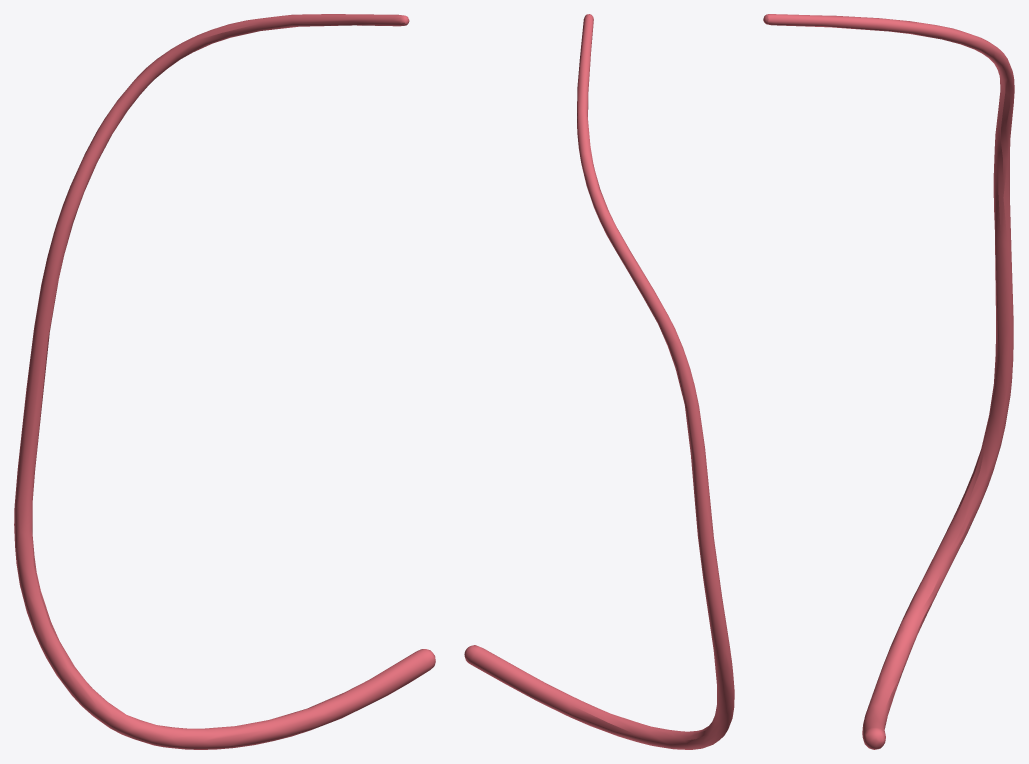
File: fma50861_fj5014.glb
3 views of the same model, side by side, from view 1: azimuth 30°, elevation 25°; view 2: azimuth 150°, elevation 25°; view 3: azimuth 270°, elevation 25° (orthographic). The views are drawn at different scales.
Visible parts, largest first — view 1: FMA50861_FJ5014; view 2: FMA50861_FJ5014; view 3: FMA50861_FJ5014.
Boxes of the visible parts, <box> form: FMA50861_FJ5014: <box>14,14,435,749</box>; FMA50861_FJ5014: <box>464,14,734,749</box>; FMA50861_FJ5014: <box>763,14,1014,749</box>.
Bounding box in the file's own units: 0.0172 × 0.0345 × 0.0107.
